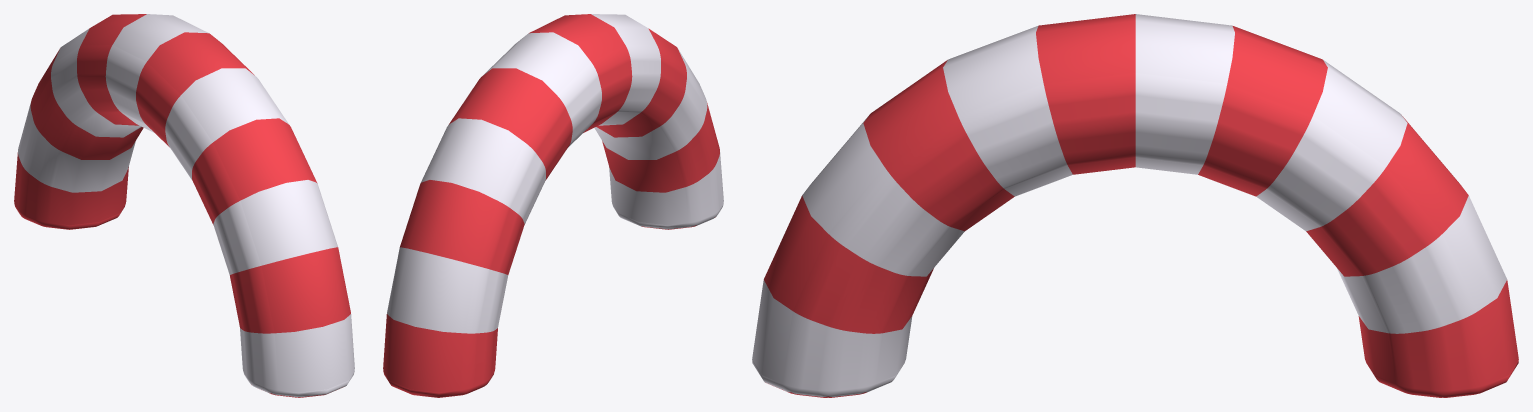
File: arch_1.glb
The picture shows the model from 3 angles, left to right: view 1: azimuth 30°, elevation 25°; view 2: azimuth 150°, elevation 25°; view 3: azimuth 270°, elevation 25°; orthographic projection. The views are drawn at different scales.
Visible parts, largest first — view 1: Arch1; view 2: Arch1; view 3: Arch1.
Boxes of the visible parts, x1,y1,x2,y2 form: Arch1: [14, 14, 354, 397]; Arch1: [383, 14, 723, 397]; Arch1: [752, 14, 1518, 397].
Bounding box in the file's own units: 1.92 × 4.92 × 9.8.
1 material, 1 textured.
